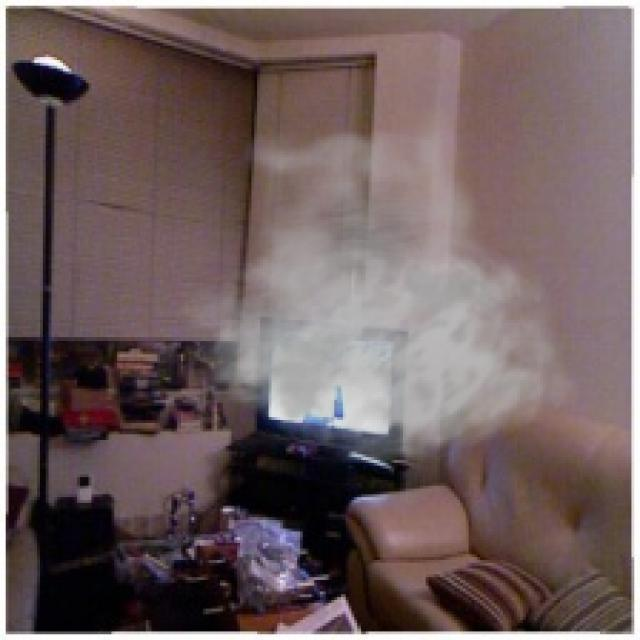Smoke: (168, 97, 578, 466)
